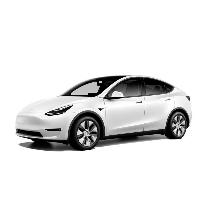EV: (16, 74, 196, 151)
